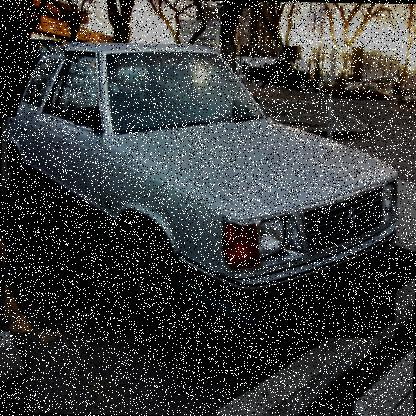Car: (3, 40, 399, 338), (2, 38, 64, 119), (348, 82, 392, 100), (331, 82, 355, 99), (383, 85, 415, 97), (403, 87, 415, 105), (318, 83, 334, 94)
